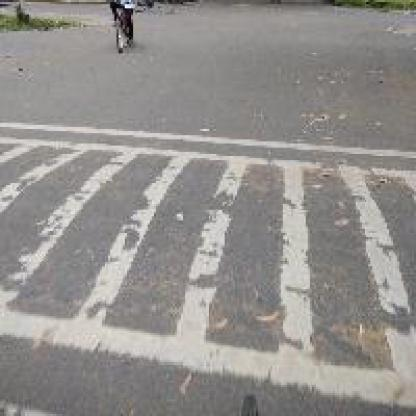Speed Bump: (0, 116, 415, 414)
